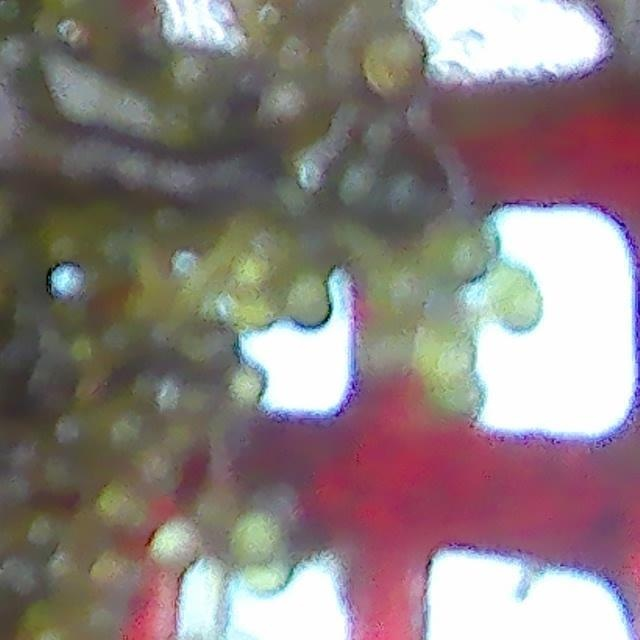SeaGrape: (428, 215, 492, 284), (490, 268, 542, 334), (230, 510, 287, 566), (97, 484, 148, 532), (281, 281, 332, 329)
